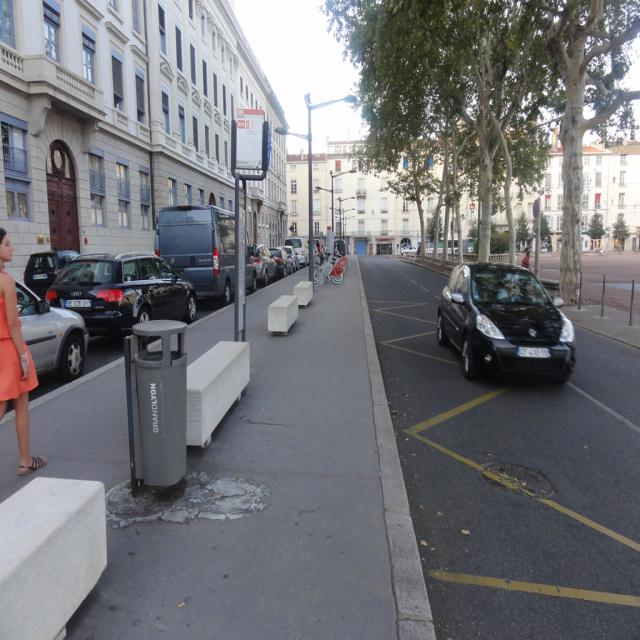car: (434, 245, 579, 394)
